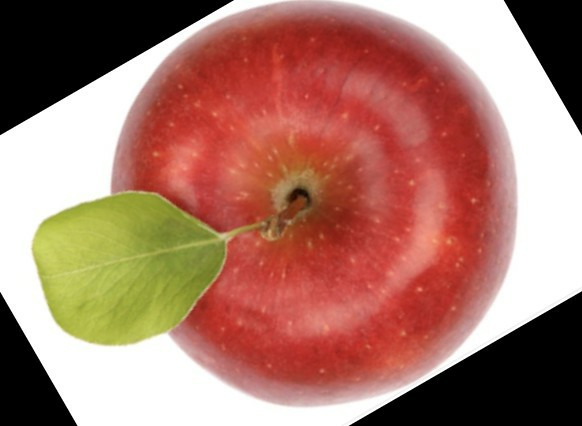fresh_apple: (110, 2, 521, 386)
